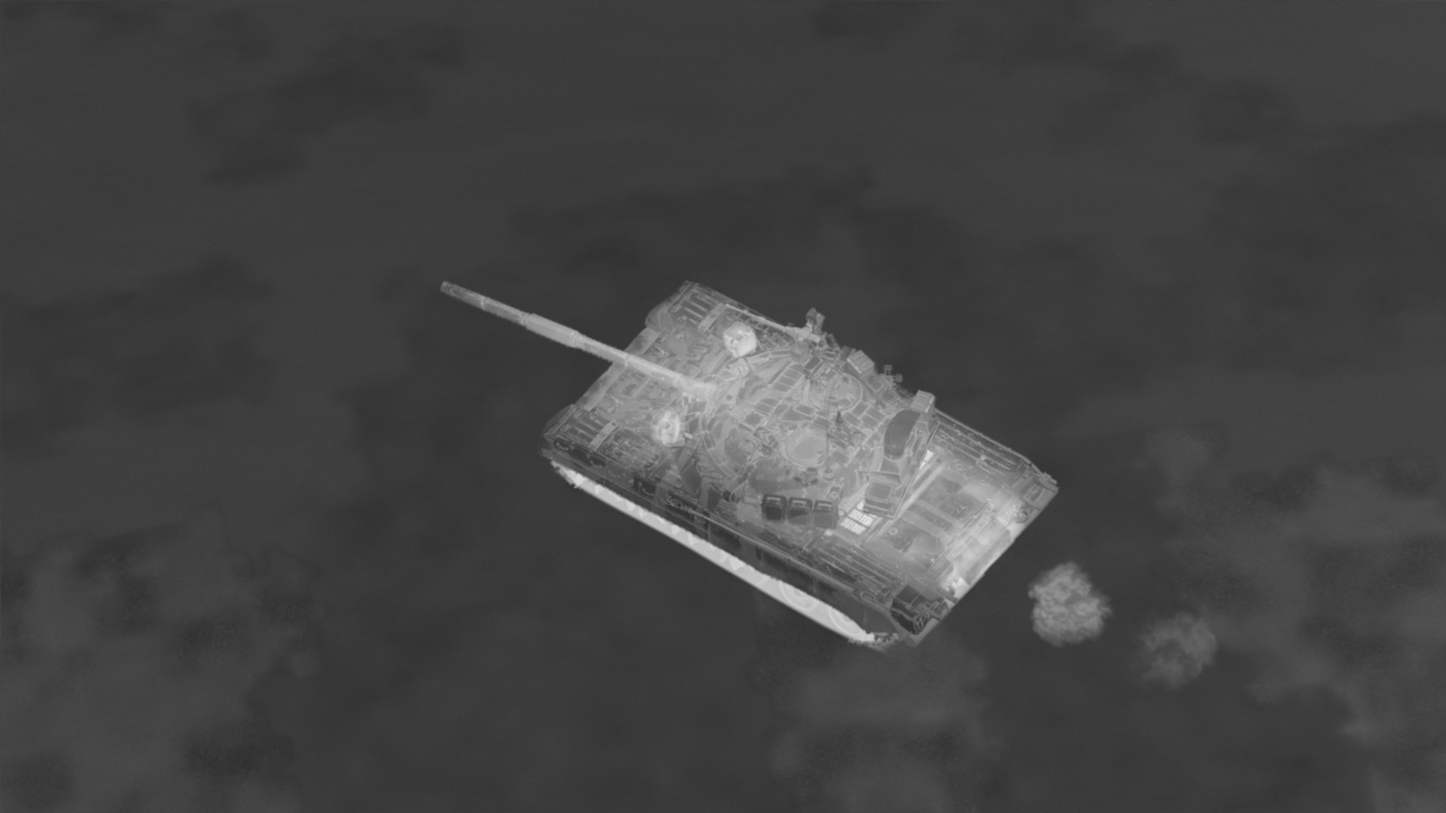t-80u: (435, 279, 1059, 650)
